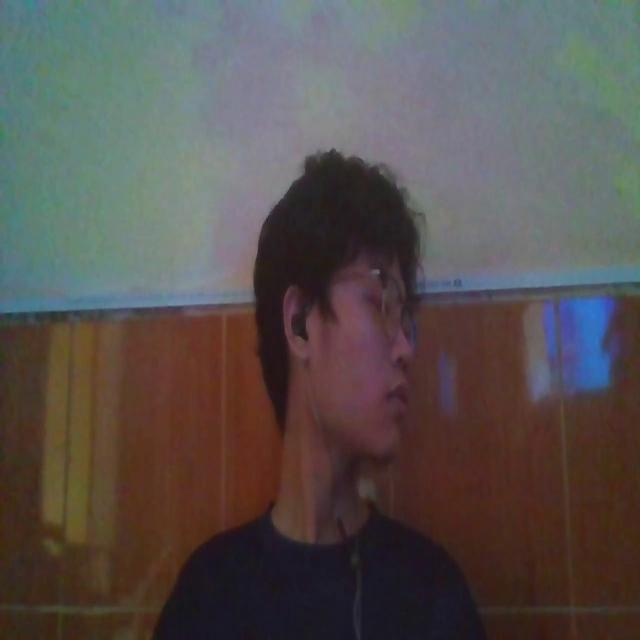student: (130, 144, 494, 640)
